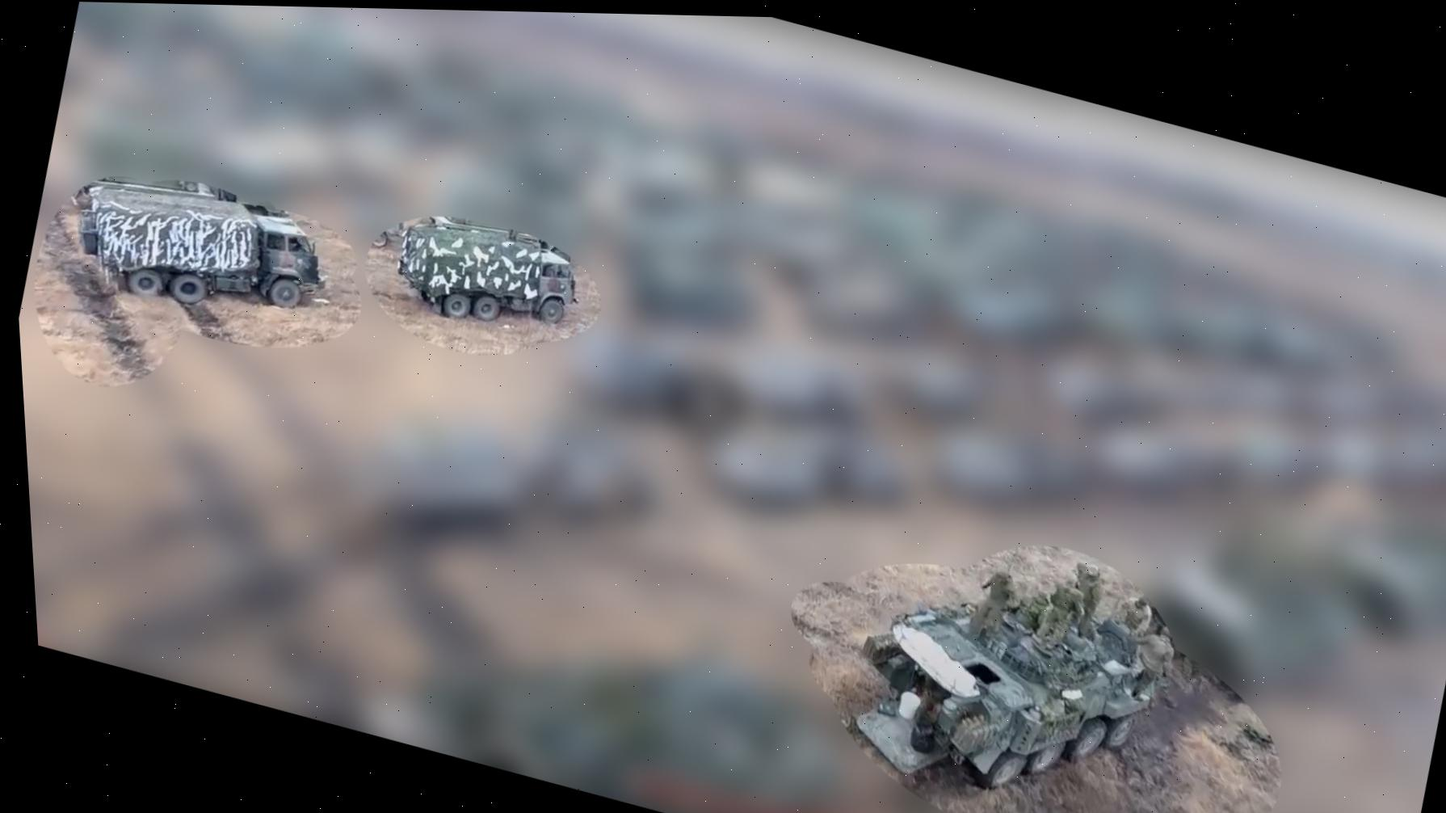armored_car: (828, 553, 1179, 813)
truck: (60, 159, 343, 344), (387, 210, 596, 350)
